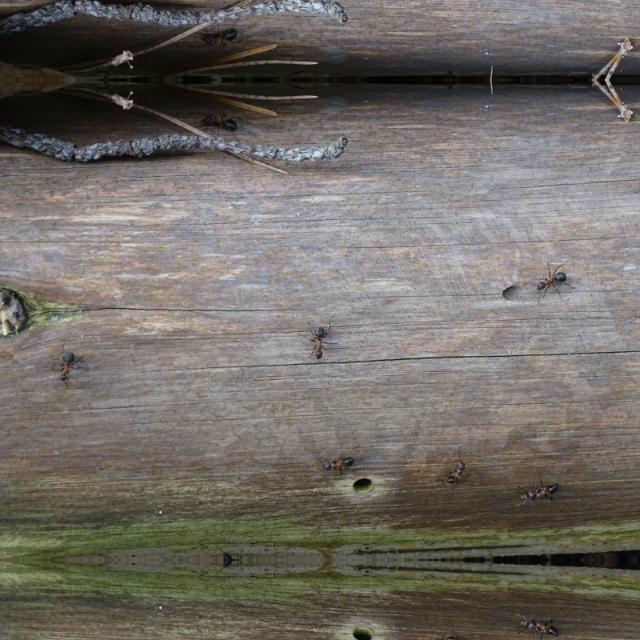Formica: (513, 470, 567, 512), (528, 258, 574, 306), (302, 316, 342, 366), (513, 608, 567, 640), (442, 451, 476, 491), (319, 444, 359, 478), (49, 346, 83, 386), (442, 628, 474, 640)
